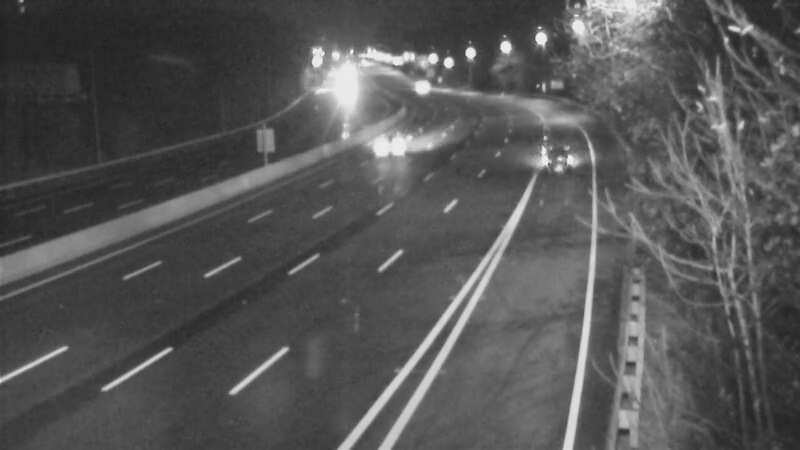vehicle: (513, 125, 593, 205), (396, 63, 446, 113), (363, 121, 413, 171)
